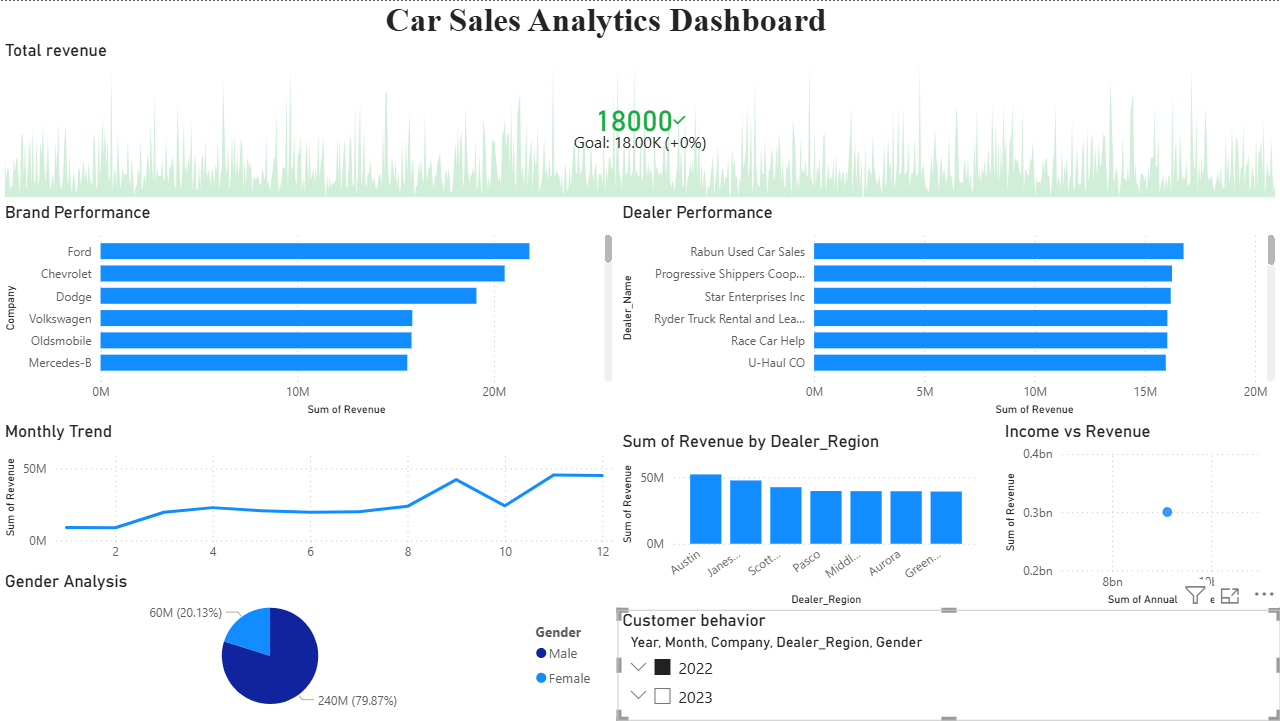

The page's visual inventory and layout, read from the dashboard file:
{"tool":"powerbi","page":{"name":"Page 1","canvas":[1280,720],"ordinal":0},"visuals":[{"type":"kpi","title":"Total revenue","fields":{"Indicator":["Sum(clean_car_sales.Revenue)"],"TrendLine":["clean_car_sales.Car_id"],"Goal":["Avg(clean_car_sales.Revenue)"]},"box":[0,39.1,1280.3,162.6],"z":0},{"type":"clusteredBarChart","title":"Brand Performance","fields":{"Category":["clean_car_sales.Company"],"Y":["Sum(clean_car_sales.Revenue)"]},"box":[0,201.7,617.5,218.2],"z":1000},{"type":"columnChart","fields":{"Category":["clean_car_sales.Dealer_Region"],"Y":["Sum(clean_car_sales.Revenue)"]},"box":[617.5,429.5,366.4,179.8],"z":2000},{"type":"lineChart","title":"Monthly Trend","fields":{"Category":["clean_car_sales.Month"],"Y":["Sum(clean_car_sales.Revenue)"]},"box":[0,419.9,617.5,149.6],"z":3000},{"type":"barChart","title":"Dealer Performance","fields":{"Category":["clean_car_sales.Dealer_Name"],"Y":["Sum(clean_car_sales.Revenue)"]},"box":[617.5,201.7,662.8,218.2],"z":4000},{"type":"pieChart","title":"Gender Analysis","fields":{"Category":["clean_car_sales.Gender"],"Y":["Sum(clean_car_sales.Revenue)"]},"box":[0,569.5,606.5,150.9],"z":4001},{"type":"scatterChart","title":"Income vs Revenue","fields":{"X":["Sum(clean_car_sales.Annual Income)"],"Y":["Sum(clean_car_sales.Revenue)"]},"box":[1000.3,419.9,279.9,189.4],"z":4002},{"type":"slicer","title":"Customer behavior","fields":{"Values":["clean_car_sales.Year","clean_car_sales.Month","clean_car_sales.Company","clean_car_sales.Dealer_Region","clean_car_sales.Gender"]},"box":[617.5,609.3,662.8,111.1],"z":4003},{"type":"textbox","title":"Car Sales Analytics Dashboard","box":[234.8,0,742.3,39.1],"z":4004}]}

Visuals, with their boxes in screenshot pixels (x1, y1, x2, y2), scaled from the page's 1280x720 canvas onto the 1280x721 screenshot:
"Total revenue" kpi: x1=0 y1=39 x2=1279 y2=202
"Brand Performance" clusteredBarChart: x1=0 y1=202 x2=618 y2=420
columnChart - clean_car_sales.Dealer_Region x Sum(clean_car_sales.Revenue): x1=618 y1=430 x2=984 y2=610
"Monthly Trend" lineChart: x1=0 y1=420 x2=618 y2=570
"Dealer Performance" barChart: x1=618 y1=202 x2=1279 y2=420
"Gender Analysis" pieChart: x1=0 y1=570 x2=606 y2=720
"Income vs Revenue" scatterChart: x1=1000 y1=420 x2=1279 y2=610
"Customer behavior" slicer: x1=618 y1=610 x2=1279 y2=720
"Car Sales Analytics Dashboard" textbox: x1=235 y1=0 x2=977 y2=39
